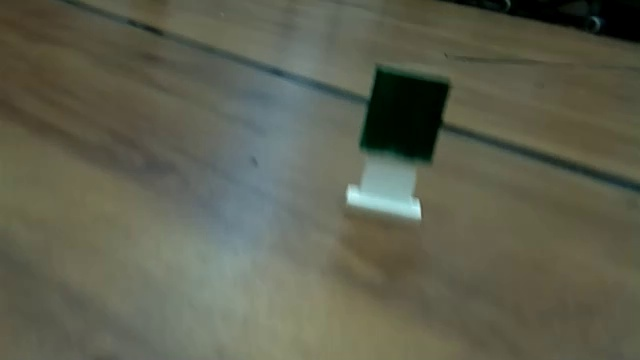rect: (346, 53, 457, 240)
